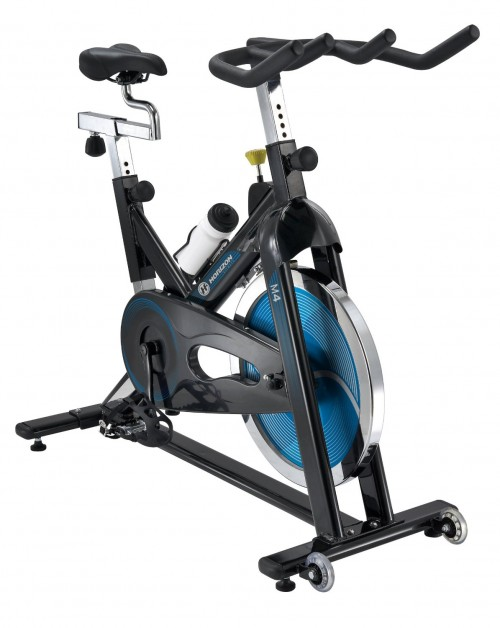gym_bike: (21, 27, 476, 596)
